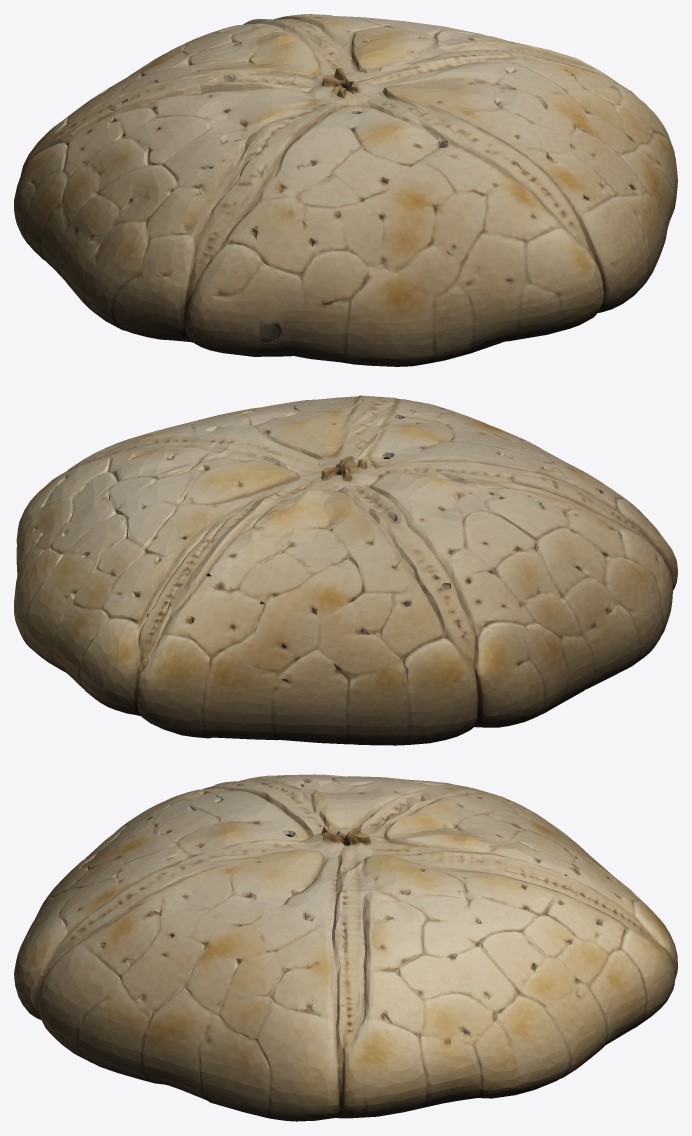
3 renders of one model, top to bottom at view 1: azimuth 30°, elevation 25°; view 2: azimuth 150°, elevation 25°; view 3: azimuth 270°, elevation 25°, orthographic. The views are drawn at different scales.
Visible parts, largest first — view 1: world; view 2: world; view 3: world.
Boxes of the visible parts, x1=… form: world: x1=14, y1=14, x2=677, y2=366; world: x1=14, y1=395, x2=677, y2=745; world: x1=14, y1=774, x2=677, y2=1121.
Size of the model in its own units: 0.9882 by 0.2681 by 0.9882.
Materials: 1 (1 with a texture image).
